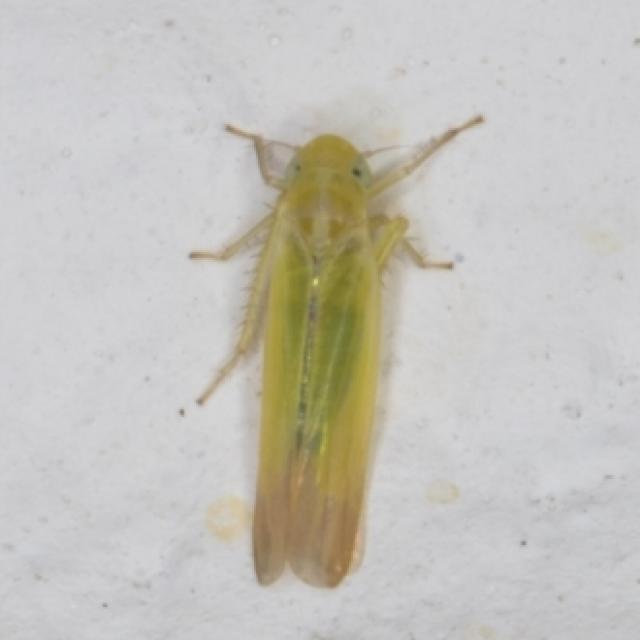Yechan: (180, 91, 470, 581)
